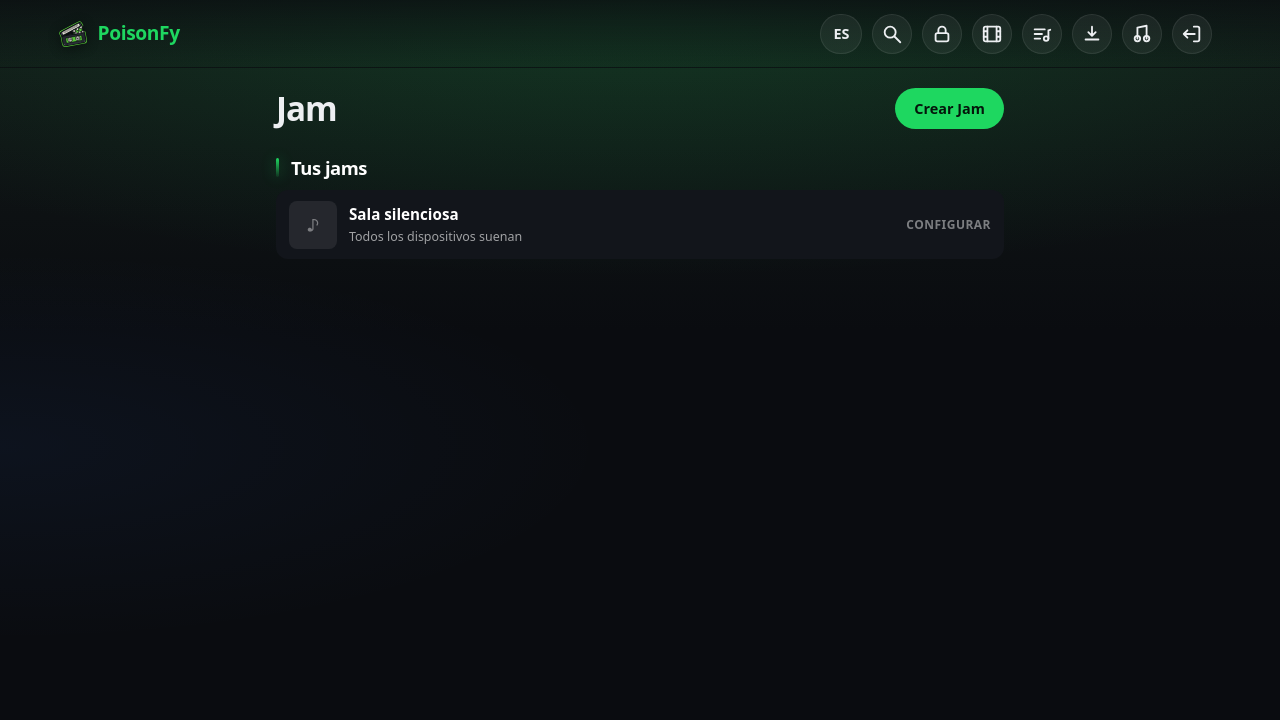
Scenario: JamScreen › shows no queue and no transport controls — the room screen is settings only
This screenshot has width=1280, height=720.
Click the button "♪ Sala silenciosa Todos los dispositivos suenan Configurar" at [313, 225], box [276,190,1004,259]
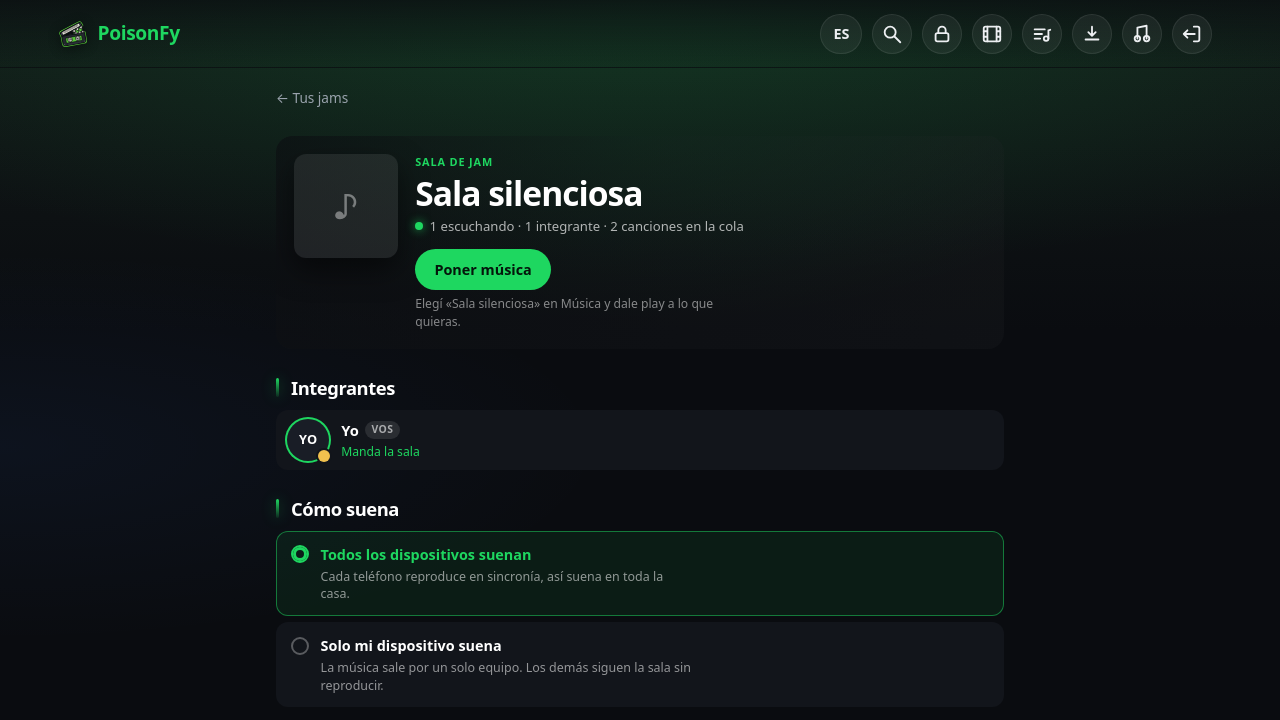
Expected: the heading "Sala silenciosa" is shown, [415,175,642,212]
Expected: the button "Poner música" is shown, [415,249,551,290]
